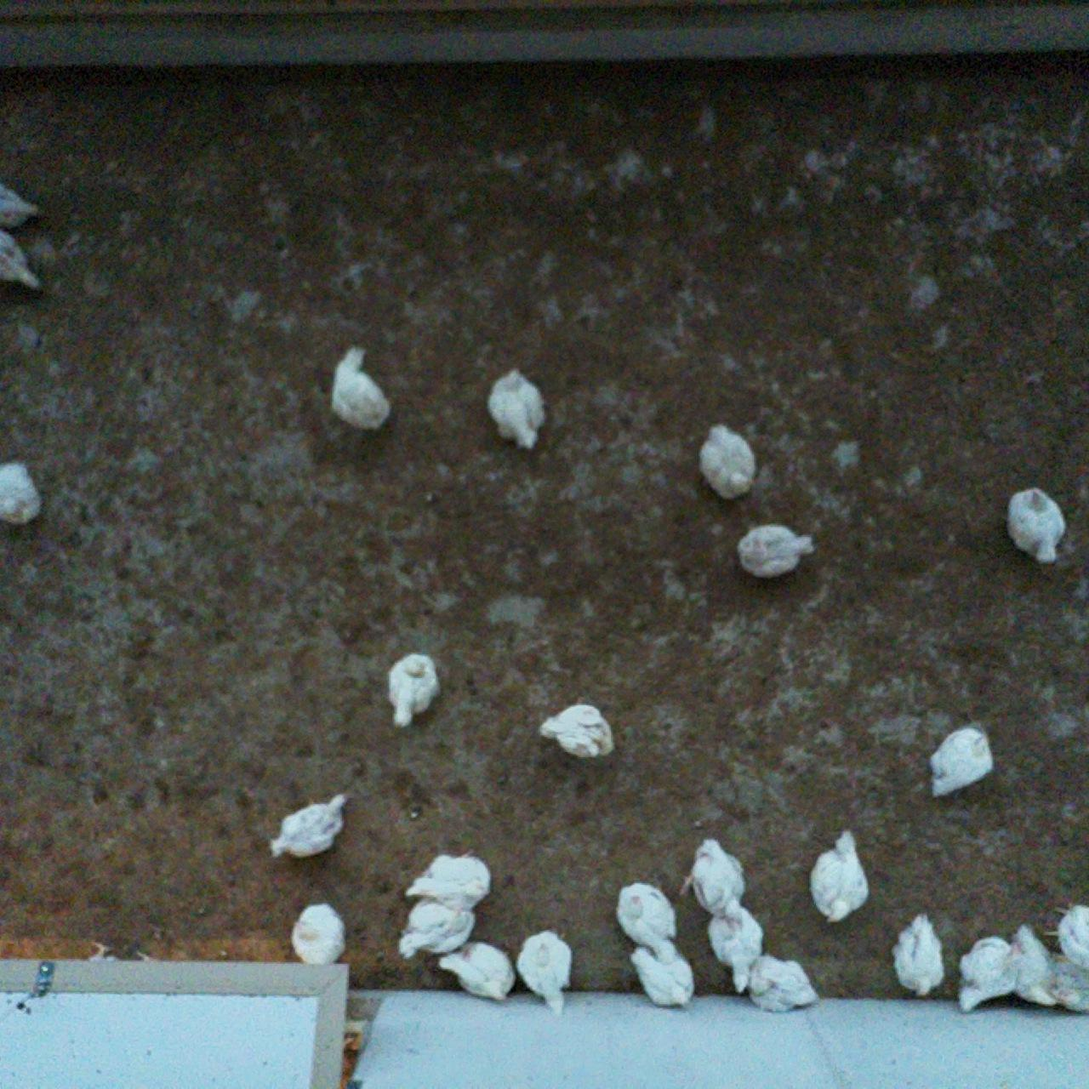chicken: (801, 825, 875, 927), (674, 835, 753, 928), (401, 840, 493, 913), (268, 788, 352, 862), (1002, 480, 1070, 570), (613, 878, 683, 964), (484, 364, 550, 455), (393, 894, 476, 966), (328, 344, 394, 434), (926, 719, 1001, 797), (696, 418, 763, 505), (887, 906, 949, 999), (514, 928, 579, 1015), (704, 905, 765, 996), (733, 518, 821, 581), (437, 936, 517, 1005), (956, 936, 1021, 1017), (628, 938, 698, 1012), (537, 700, 620, 762), (384, 647, 445, 731), (746, 949, 820, 1017), (1009, 918, 1062, 1009), (290, 901, 350, 966), (1041, 895, 1089, 970), (0, 457, 46, 532), (0, 231, 47, 294), (1051, 953, 1089, 1013), (0, 179, 42, 233)
